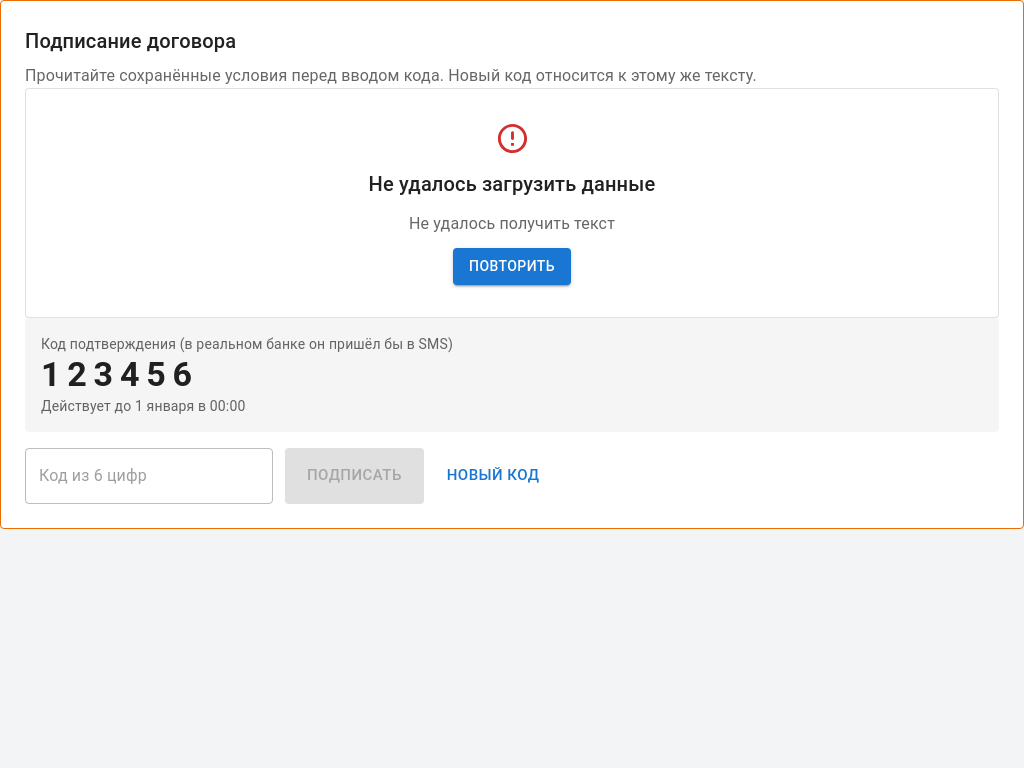
Test: blocks the code when text cannot be loaded and enables signing only after a successful retry
expect the text "Не удалось получить текст" is shown: met, box [409,212,615,236]
expect the field labelled "Код из 6 цифр" is disabled: met, box [25,448,273,504]
Click the button "Повторить". click: (512, 266)
box: [453,248,571,284]
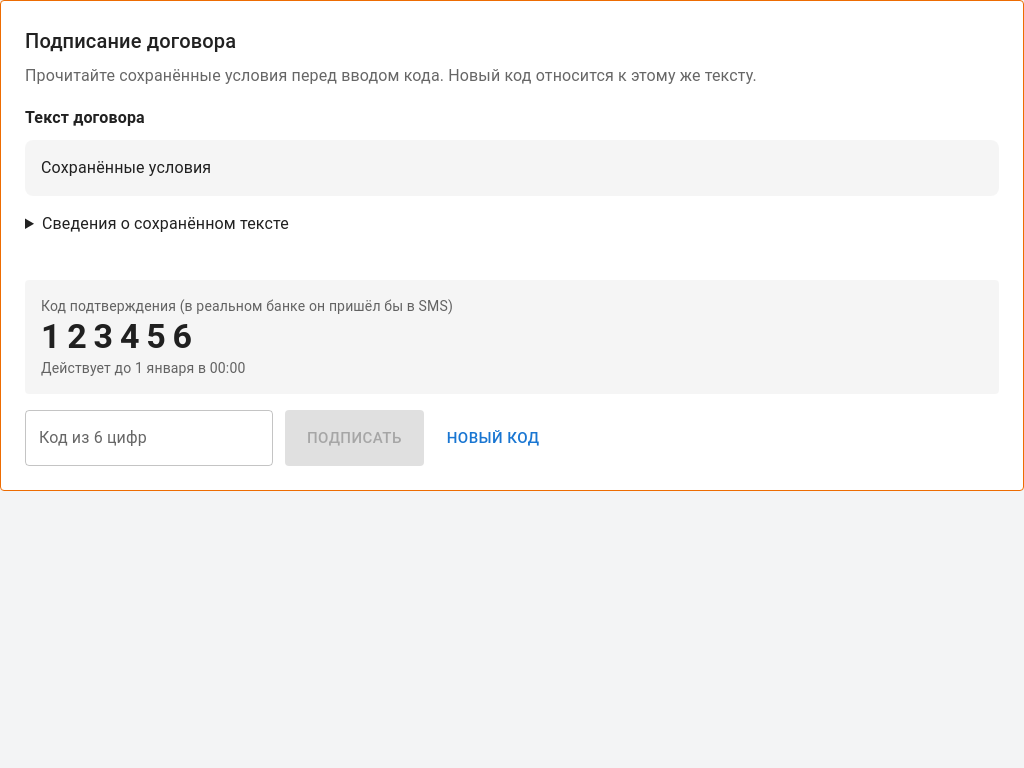
expect the text "Сохранённые условия" is shown: met, box [25,140,999,196]
expect the field labelled "Код из 6 цифр" is enabled: met
Type "123456" into the field labelled "Код из 6 цифр". click: (149, 438)
box: [25,410,273,466]
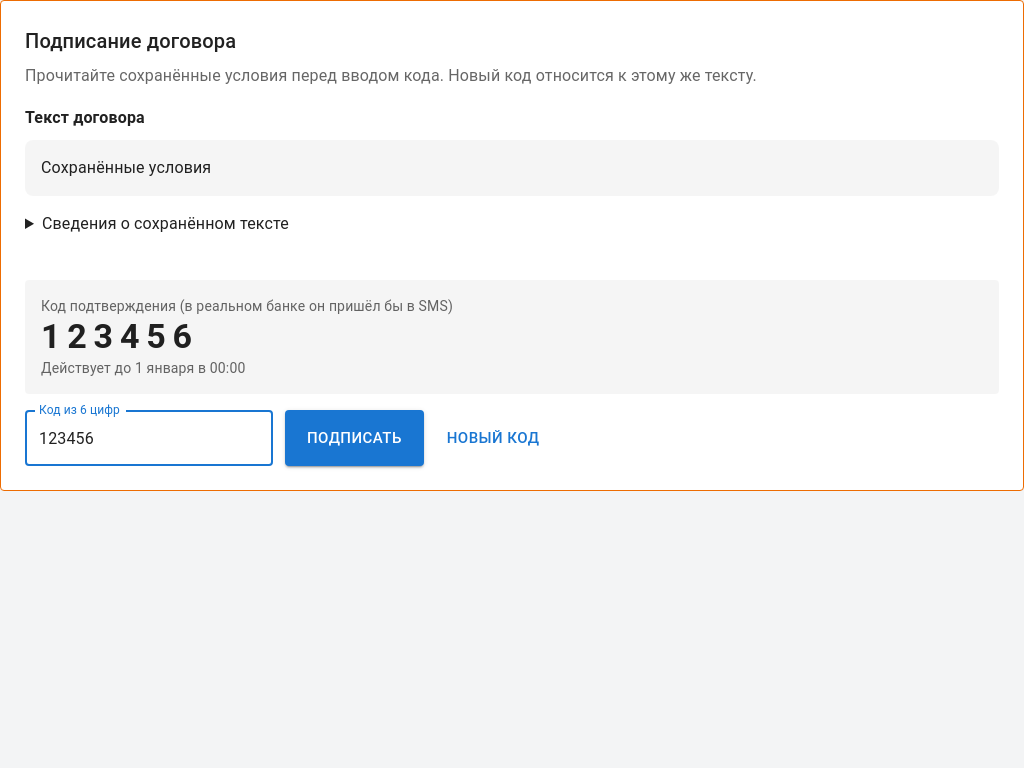
expect the button "Подписать" is enabled: met, box [285,410,424,466]
